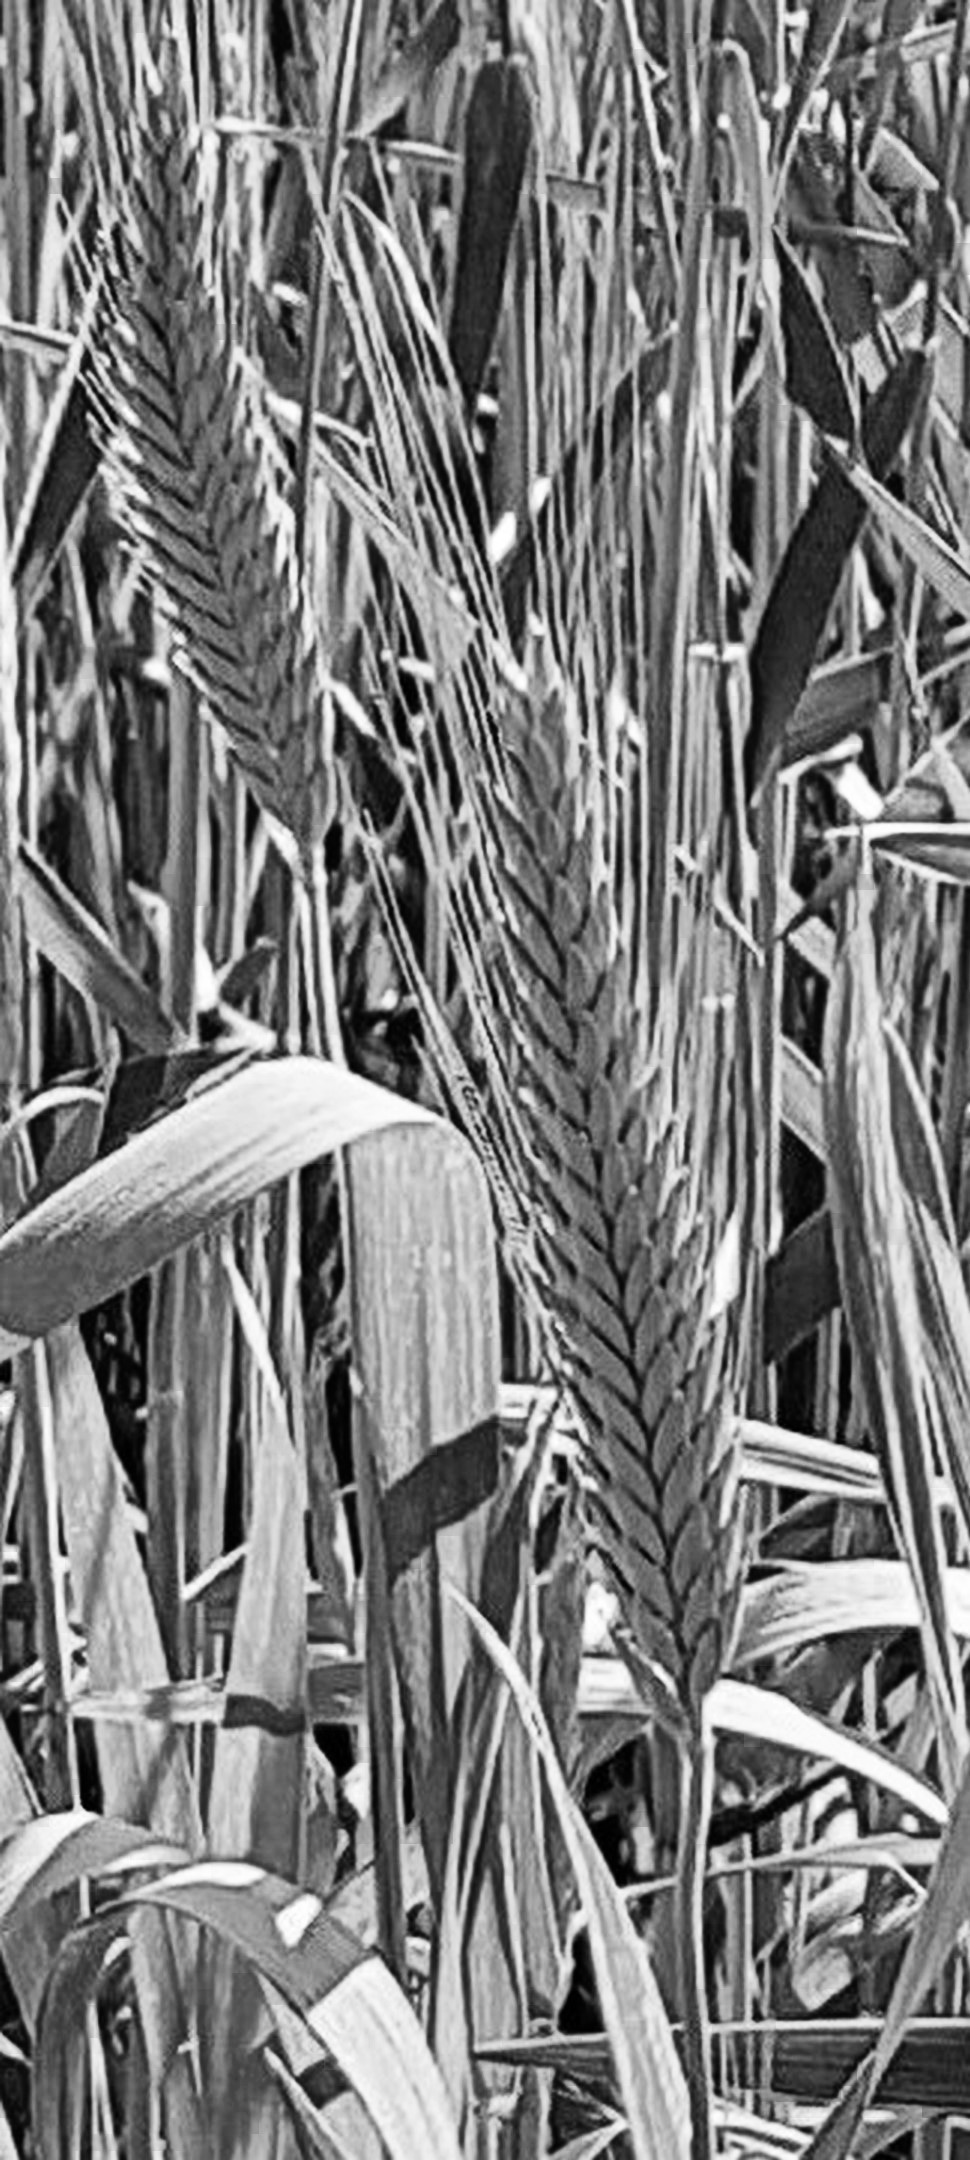Healthy Wheat: (440, 631, 809, 1705), (74, 125, 371, 833)
